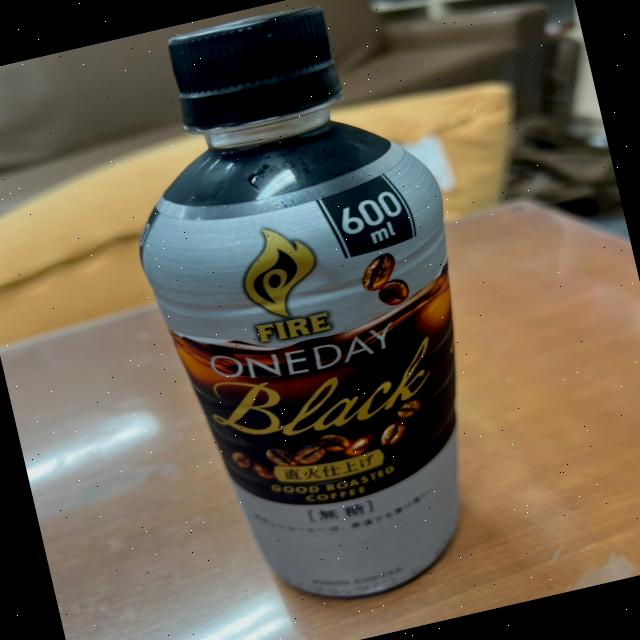coffee-black: (78, 0, 510, 632)
